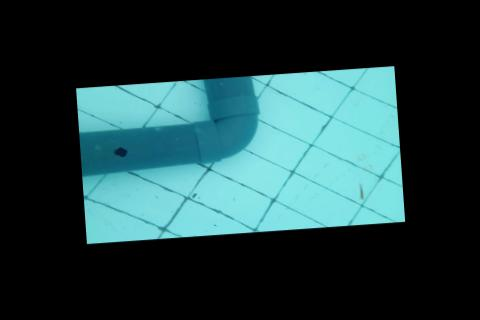kebocoran: (111, 145, 128, 159)
